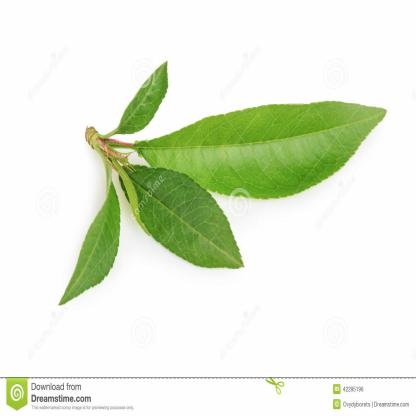peach leaf: (136, 84, 397, 202), (114, 160, 252, 277), (42, 174, 122, 308), (111, 50, 180, 146)
